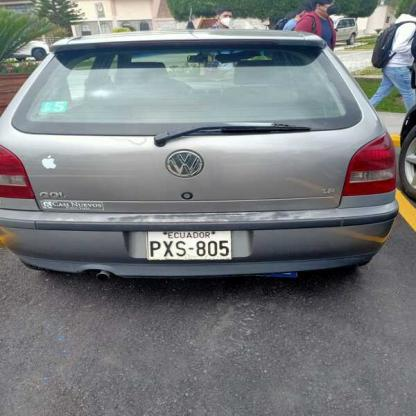Placa: (144, 226, 232, 263)
